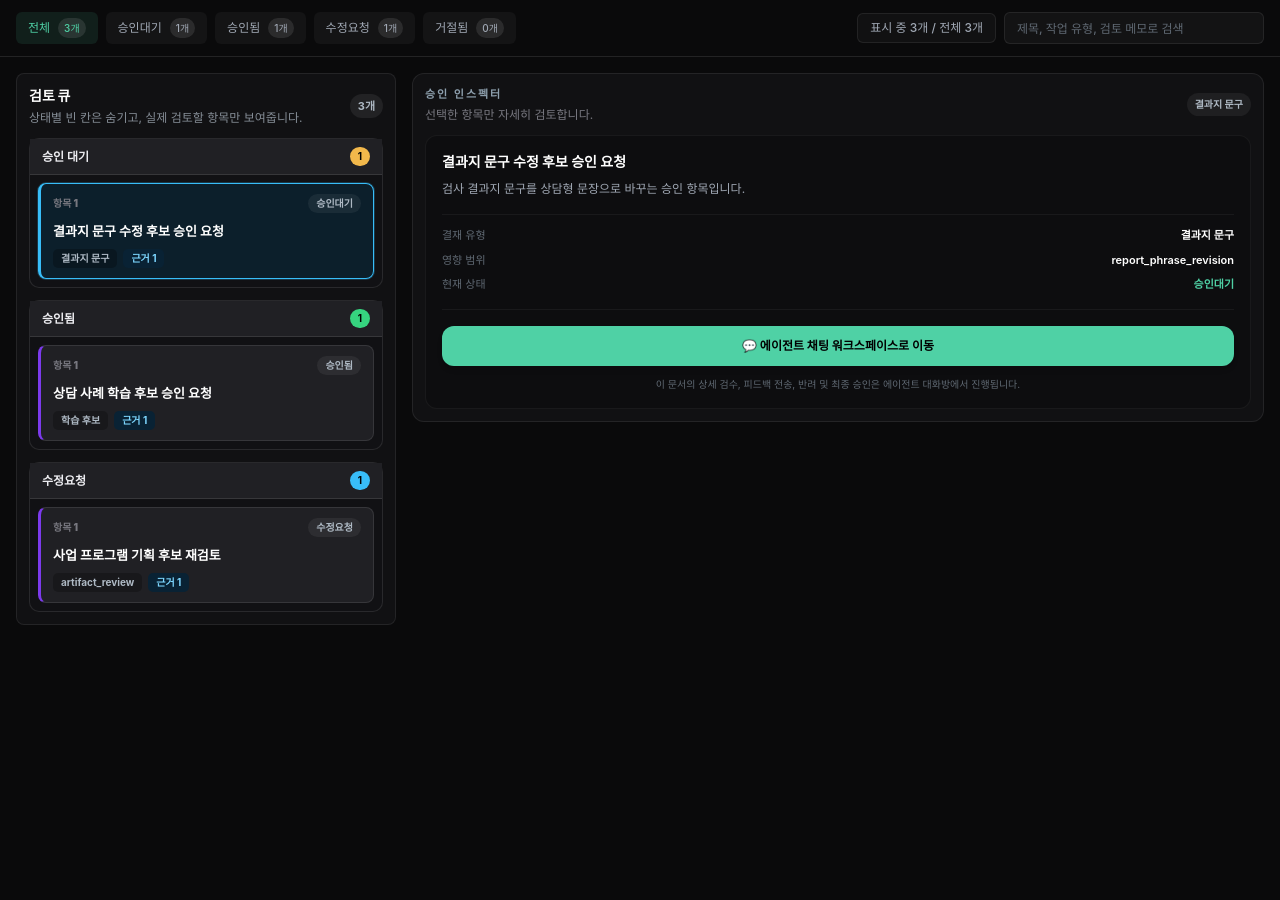
Test: ApprovalInbox › shows a focused empty state when filters hide all approvals
The image size is (1280, 900).
Type "없는 항목" into the field named "승인 항목 검색" at coordinates (1134, 28), box x1=1004 y1=12 x2=1264 y2=44
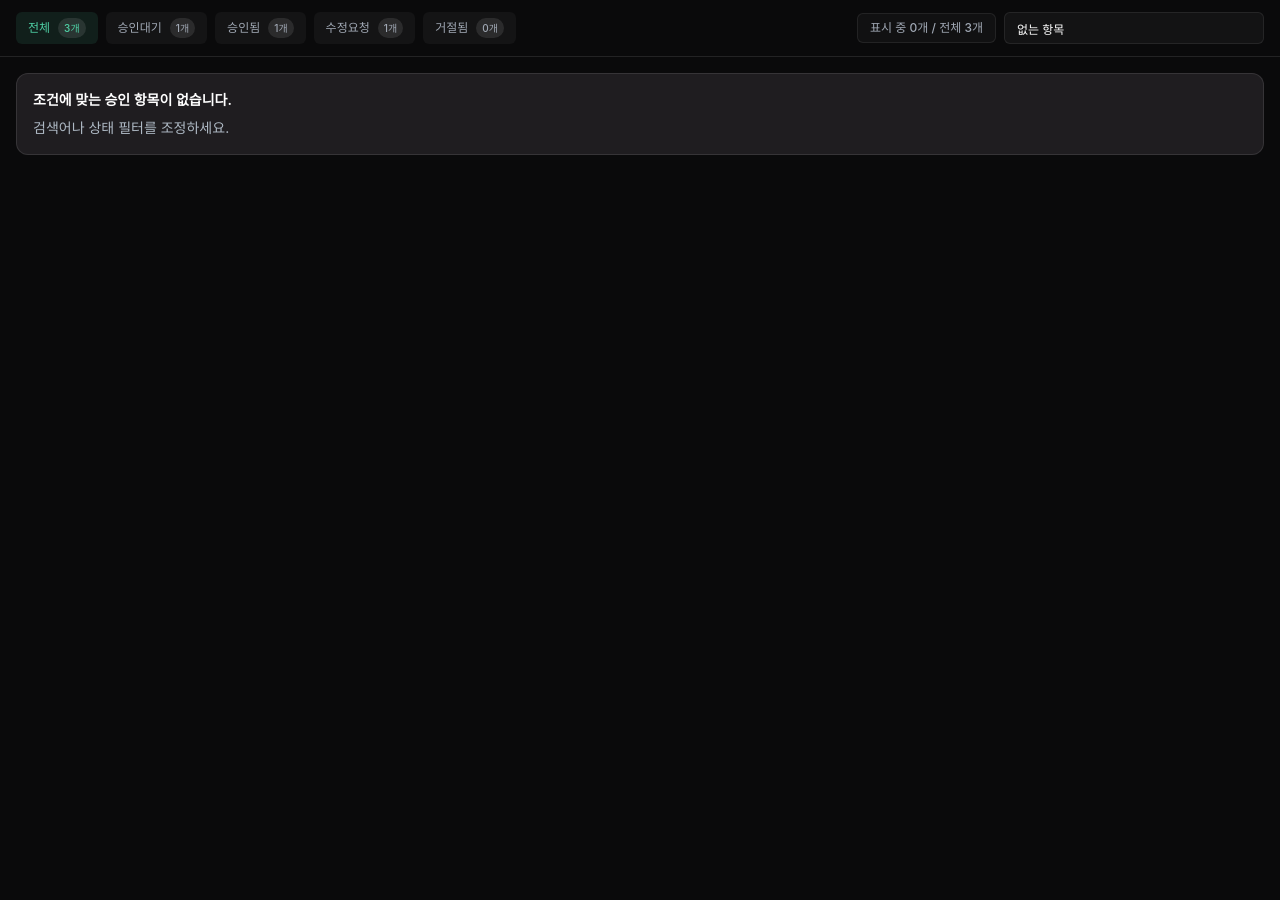
Now the text "조건에 맞는 승인 항목이 없습니다." is shown, box x1=33 y1=91 x2=232 y2=108
Now the text "검색어나 상태 필터를 조정하세요." is shown, box x1=33 y1=119 x2=229 y2=136
